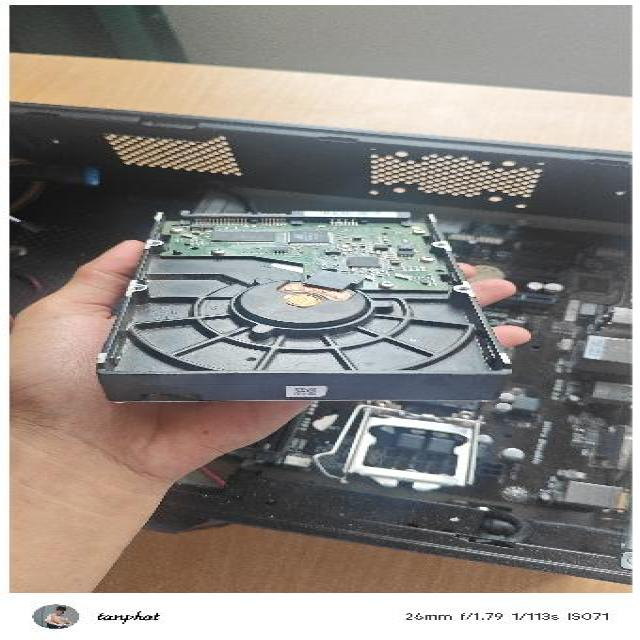DISK: (93, 202, 513, 410)
